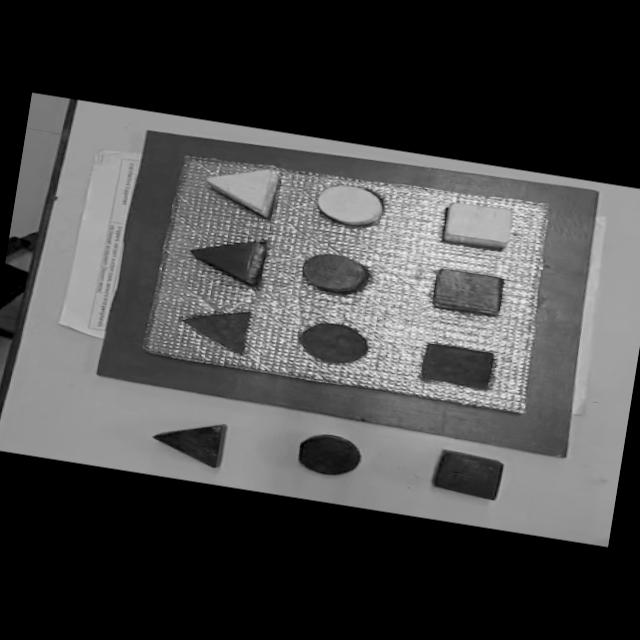bcircle: (295, 430, 366, 481)
bcube: (428, 446, 506, 502)
btriangle: (148, 414, 228, 471)
mtcircle: (294, 318, 374, 370)
mtcube: (418, 341, 499, 392)
mttriangle: (176, 300, 258, 358)
rcircle: (298, 250, 372, 298)
rcube: (429, 266, 507, 318)
rtriangle: (184, 230, 268, 288)
wb: (140, 142, 562, 416)
ycircle: (312, 180, 388, 232)
ycube: (437, 198, 518, 255)
ytriangle: (200, 158, 284, 220)
